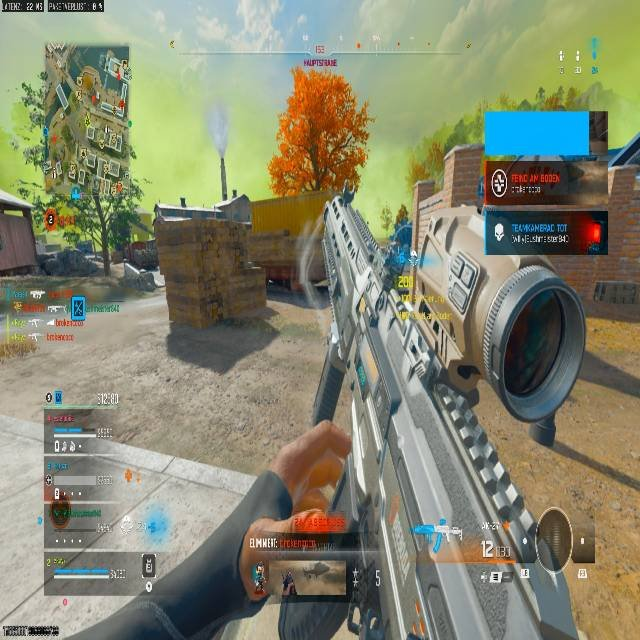player: (281, 571, 295, 598)
